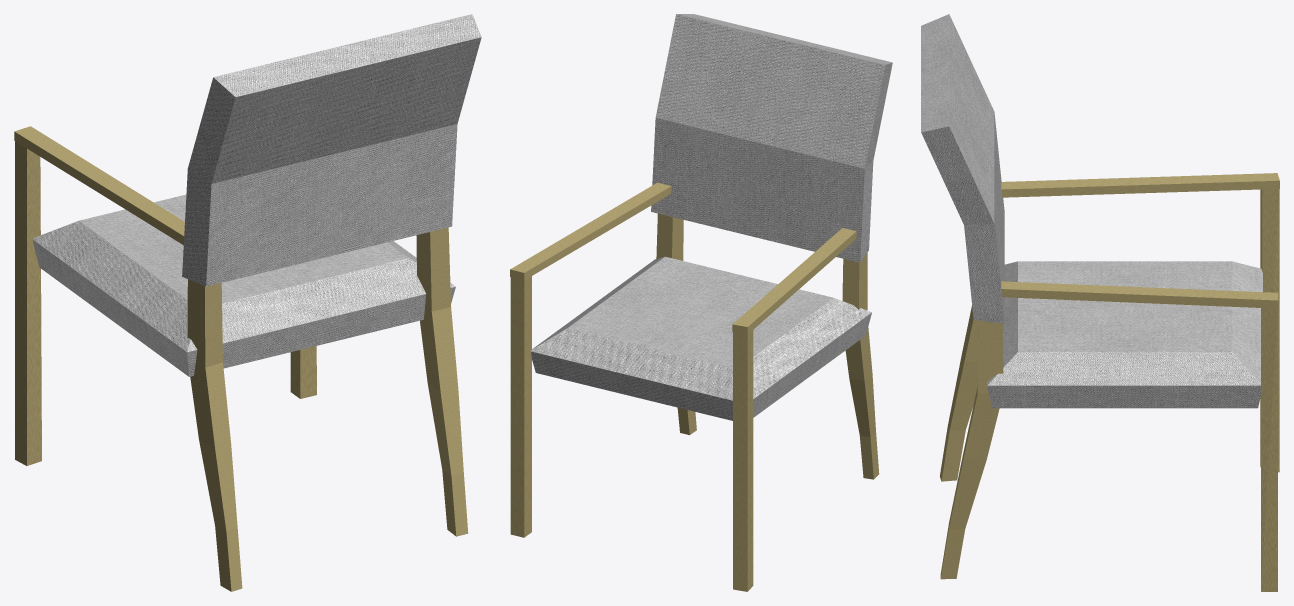
Rendered from chair.obj.
3 renders of one model, left to right at view 1: azimuth 30°, elevation 25°; view 2: azimuth 150°, elevation 25°; view 3: azimuth 270°, elevation 25°, orthographic. The views are drawn at different scales.
Parts seen in each view (by area): view 1: BezierCurve.001_Mesh.001, Cube; view 2: BezierCurve.001_Mesh.001, Cube; view 3: BezierCurve.001_Mesh.001, Cube.
Part boxes in pixels (x1,y1,x2,y2): BezierCurve.001_Mesh.001: [33, 14, 481, 376]; Cube: [14, 126, 468, 591]; BezierCurve.001_Mesh.001: [531, 14, 892, 420]; Cube: [510, 182, 879, 591]; BezierCurve.001_Mesh.001: [921, 14, 1262, 408]; Cube: [940, 173, 1279, 591].
Bounding box in the file's own units: 0.84 × 1.4 × 0.999.
